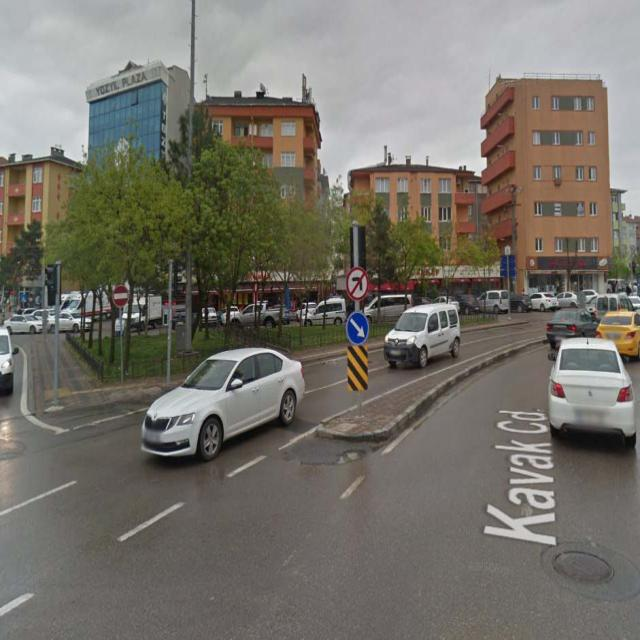girisyok: (111, 285, 128, 307)
soladonulmez: (347, 269, 367, 300)
